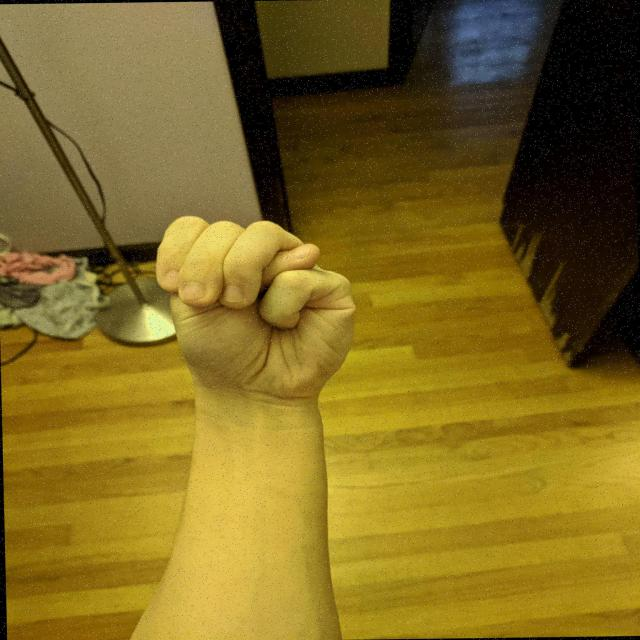M: (148, 206, 369, 405)
